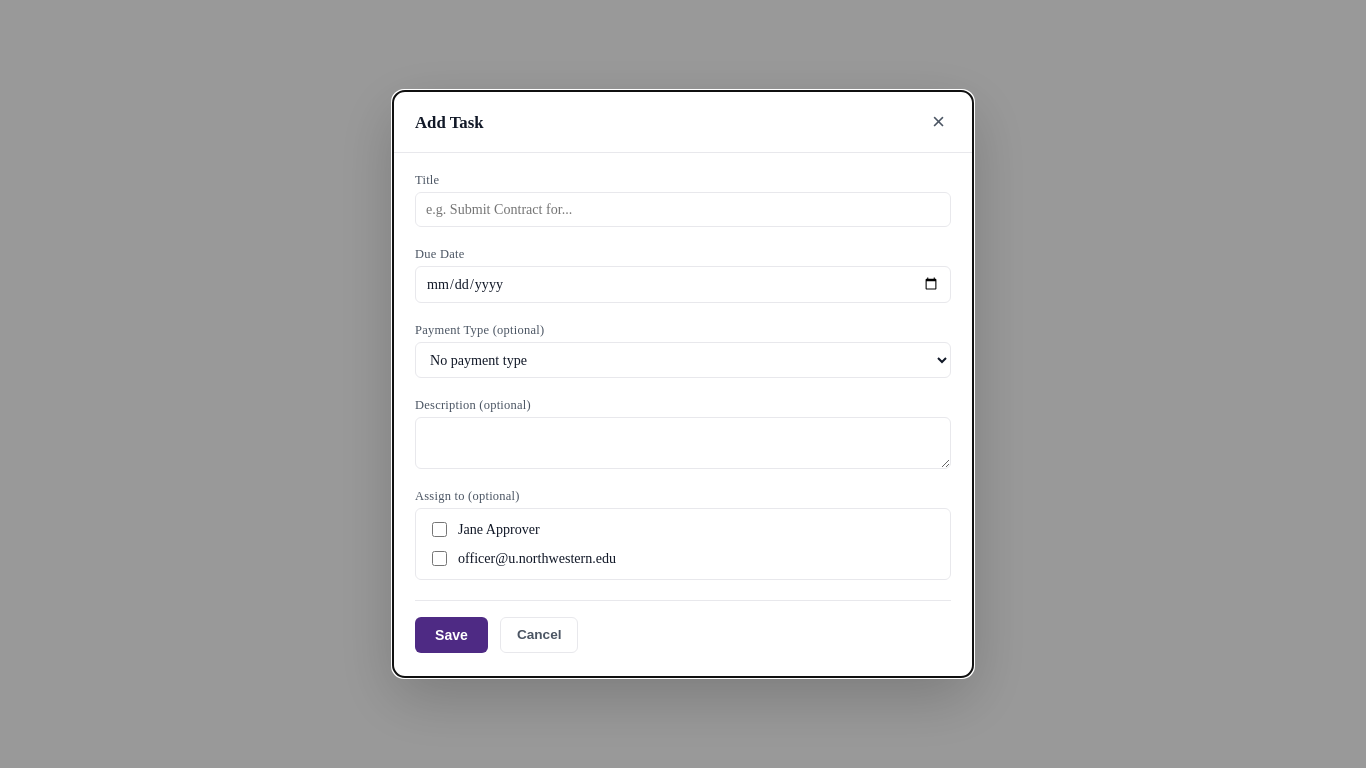
TaskFormModal › rejects a July/August due date, leaving the field unset
The image size is (1366, 768).
Type "2026-08-01" into the date field labelled "Due Date" at x=683, y=284, box [415, 266, 951, 303]
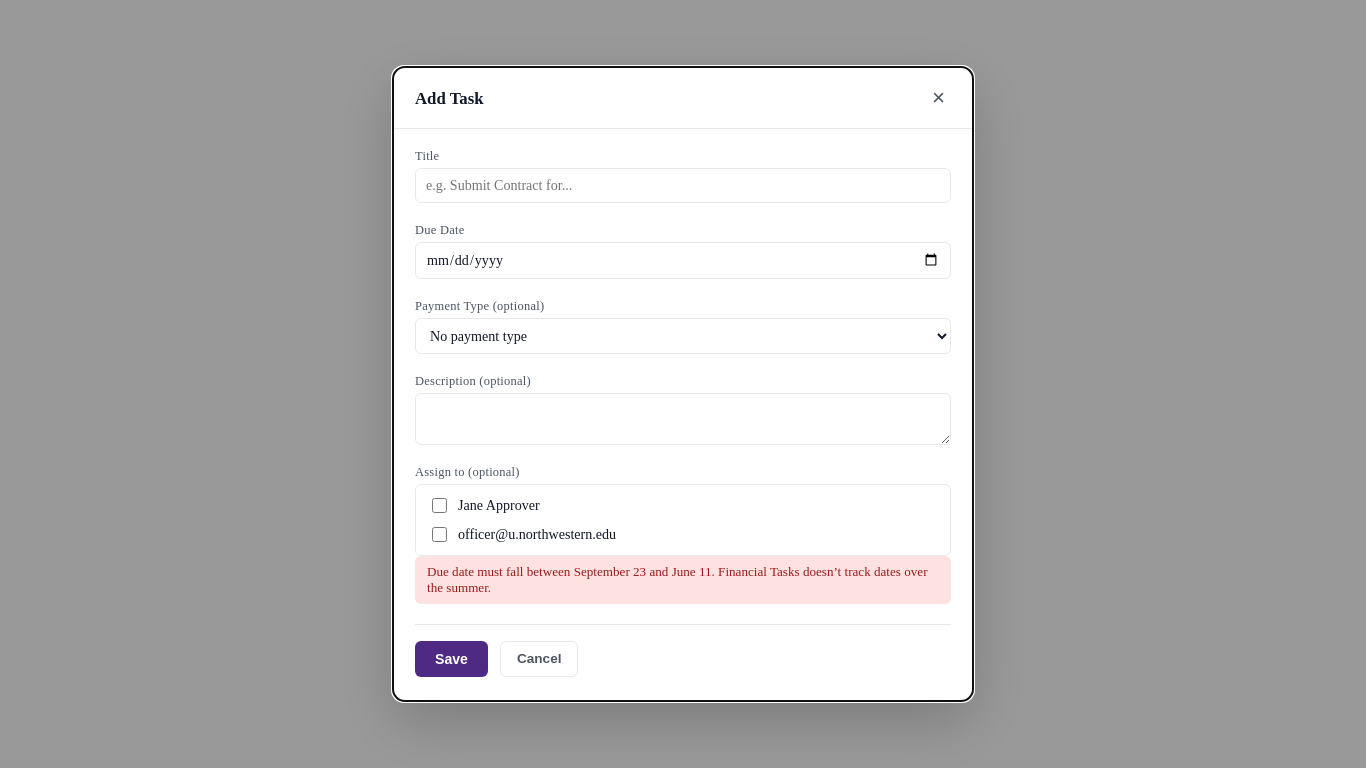
Expected: the date field labelled "Due Date" is empty, [415, 242, 951, 279]
Result: the text "Due date must fall between September 23 and June 11" is shown at [427, 564, 928, 595]
